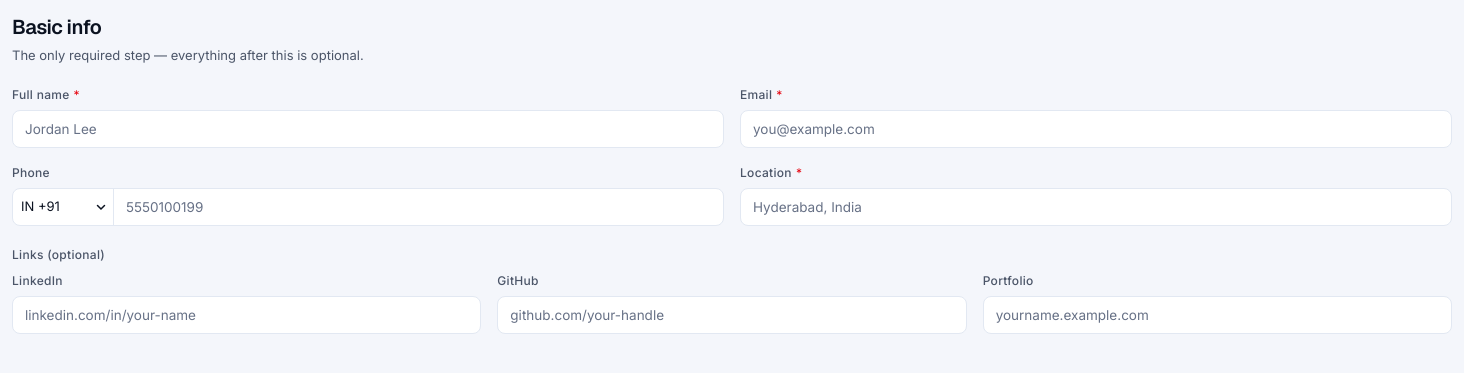
Scenario: BasicInfoForm › validation on blur › flags a phone number that's too short once blurred
In the field labelled "Phone": [418, 207] box left=114, top=189, right=723, bottom=225, type "555"
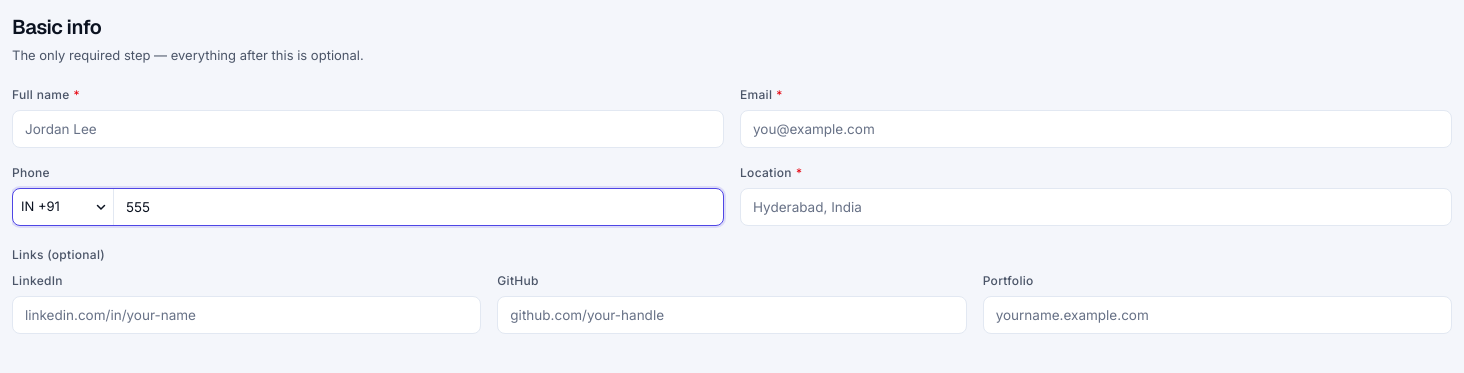
Press Tab
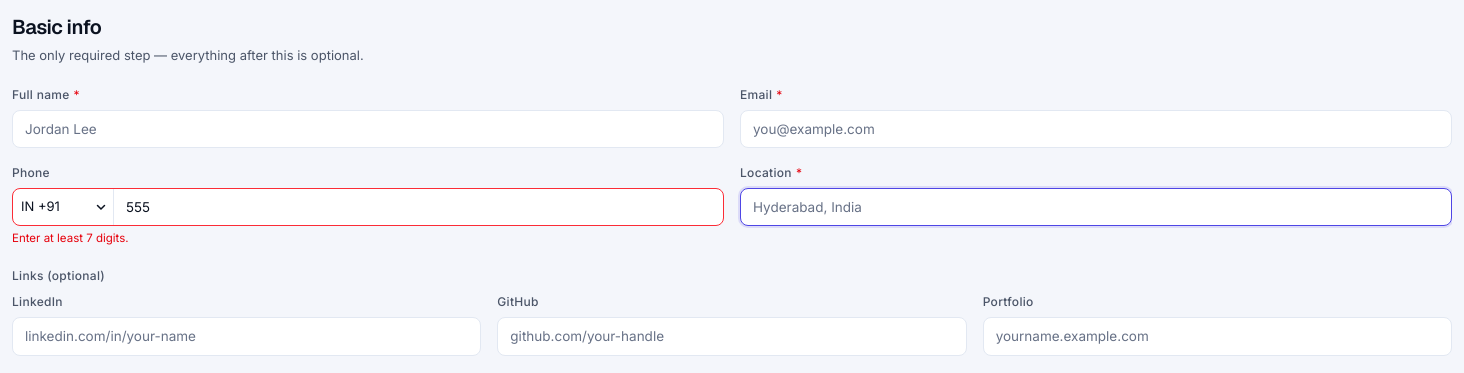
Expected: the text "Enter at least 7 digits." is shown, left=12, top=231, right=129, bottom=245
